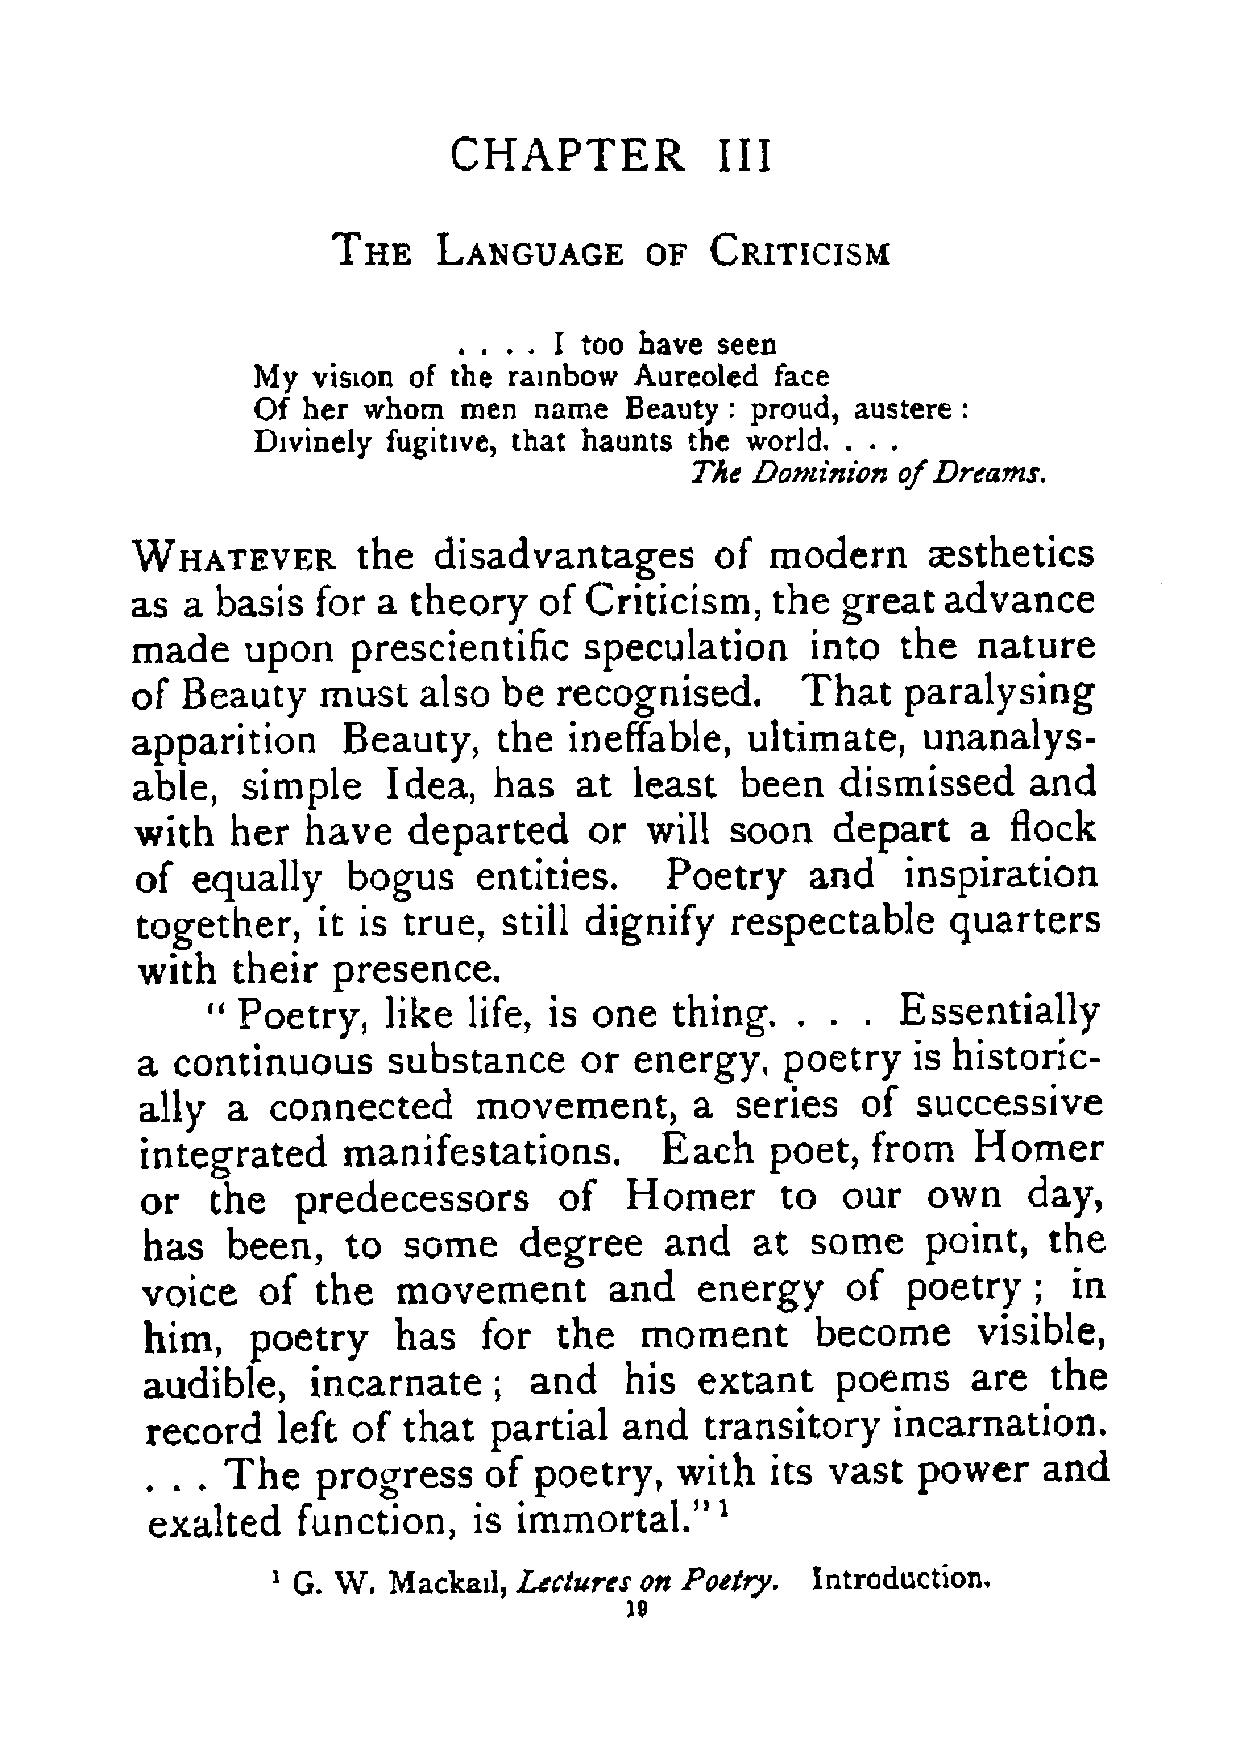chapter: (327, 130, 892, 276)
content: (127, 326, 1113, 1596)
content_pagenumber: (621, 1598, 650, 1620)
